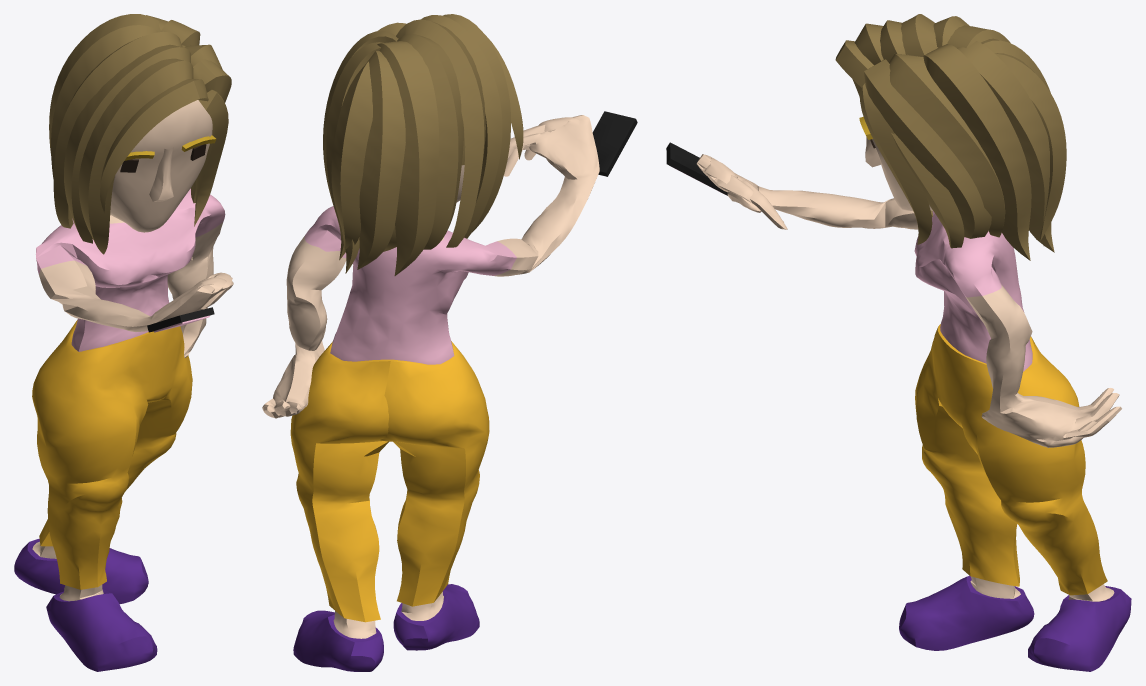
File: av-tiete-fantasy.glb
3 renders of one model, left to right at view 1: azimuth 30°, elevation 25°; view 2: azimuth 150°, elevation 25°; view 3: azimuth 270°, elevation 25°, orthographic. The views are drawn at different scales.
Parts seen in each view (by area): view 1: Ad_celular_0_0; view 2: Ad_celular_0_0; view 3: Ad_celular_0_0.
Boxes of the visible parts, <box> form: Ad_celular_0_0: <box>14,14,233,671</box>; Ad_celular_0_0: <box>262,14,637,671</box>; Ad_celular_0_0: <box>666,14,1131,671</box>.
Bounding box in the file's own units: 0.4782 × 1.35 × 0.9028.
Materials: 1 (1 with a texture image).
